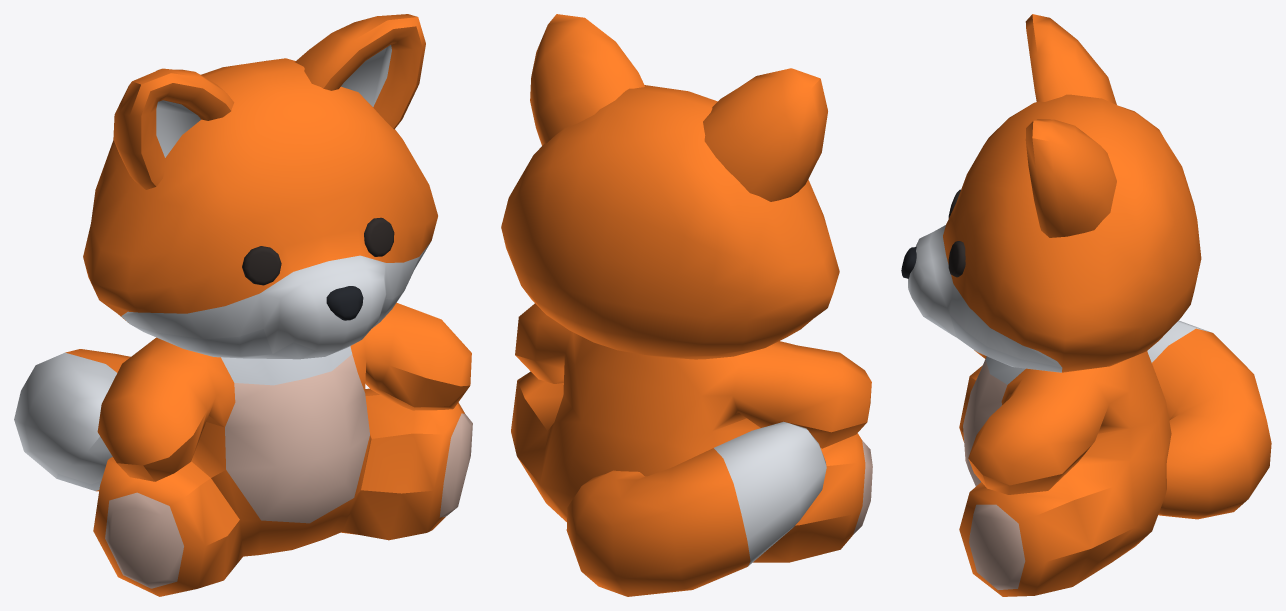
File: pelucia_raposa_pacote.glb
The picture shows the model from 3 angles, left to right: view 1: azimuth 30°, elevation 25°; view 2: azimuth 150°, elevation 25°; view 3: azimuth 270°, elevation 25°; orthographic projection. The views are drawn at different scales.
Visible parts, largest first — view 1: pelucia_raposa_pacote; view 2: pelucia_raposa_pacote; view 3: pelucia_raposa_pacote.
Part boxes in pixels (x1,y1,x2,y2): pelucia_raposa_pacote: (14,14,472,596); pelucia_raposa_pacote: (501,14,872,596); pelucia_raposa_pacote: (901,14,1271,596).
Bounding box in the file's own units: 0.3328 × 0.4466 × 0.3178.
1 material, 1 textured.
